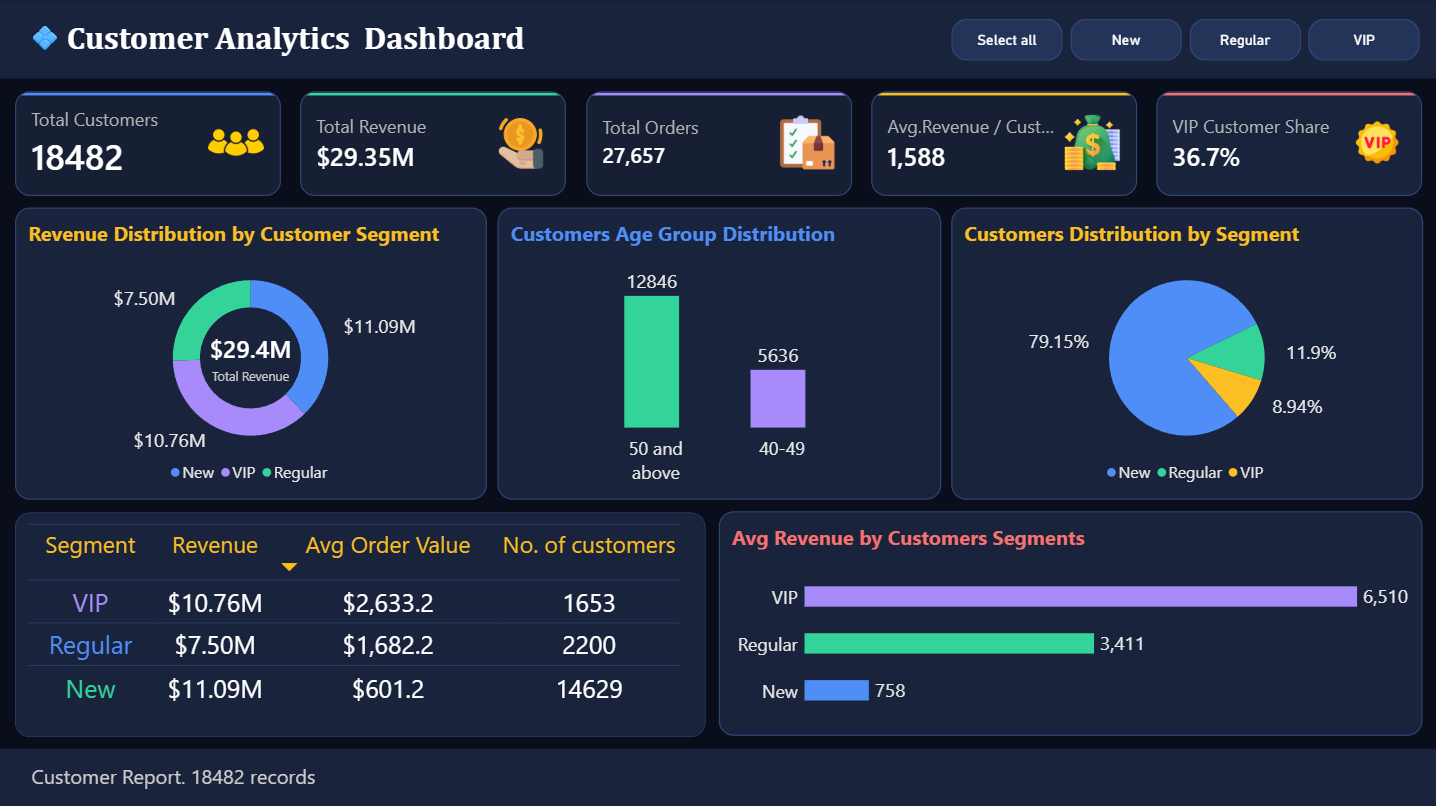

What the dashboard file says about the page in this screenshot:
{"tool":"powerbi","page":{"name":"Page 1","canvas":[1920,1080],"ordinal":0},"visuals":[{"type":"cardVisual","fields":{"Data":["Count(gold report_customers.customer_key)"]},"box":[20,121.5,355,140],"z":0},{"type":"cardVisual","fields":{"Data":["Sum(gold report_customers.total_sales)"]},"box":[401.2,121.5,355,140],"z":1000},{"type":"cardVisual","fields":{"Data":["Sum(gold report_customers.total_orders)"]},"box":[782.5,121.5,355,140],"z":2000},{"type":"cardVisual","fields":{"Data":["gold report_customers.Avg.Revenue_Customer"]},"box":[1163.8,121.5,355,140],"z":3000},{"type":"cardVisual","fields":{"Data":["gold report_customers.VIP Customer Share"]},"box":[1545,122.5,355,140],"z":4000},{"type":"donutChart","title":"Revenue  Distribution  by Customer Segment","fields":{"Category":["gold report_customers.customer_segment"],"Y":["Sum(gold report_customers.total_sales)"]},"box":[20,277.5,630,390],"z":5000},{"type":"columnChart","title":"Customers  Age Group Distribution","fields":{"Category":["gold report_customers.age_group"],"Y":["CountNonNull(gold report_customers.customer_key)"]},"box":[663.8,277.5,592.5,390],"z":6000},{"type":"tableEx","fields":{"Values":["gold report_customers.customer_segment","Sum(gold report_customers.total_sales)","Avg(gold report_customers.avg_order_value)","gold report_customers.customer_key"]},"box":[20,685,922.5,300],"z":7000},{"type":"barChart","title":"Avg Revenue  by Customers Segments ","fields":{"Category":["gold report_customers.customer_segment"],"Y":["gold report_customers.Avg.Revenue_Customer"]},"box":[960,683.8,940,300],"z":8000},{"type":"donutChart","title":"Customers Distribution  by Segment","fields":{"Category":["gold report_customers.customer_segment"],"Y":["CountNonNull(gold report_customers.customer_key)"]},"box":[1270,277.5,630,390],"z":9000},{"type":"textbox","box":[0,1000,1920,80],"z":10000},{"type":"textbox","box":[0,0,1920,105],"z":11000},{"type":"advancedSlicerVisual","fields":{"Values":["gold report_customers.customer_segment"]},"box":[1270,24.4,629.8,56.1],"z":12000}]}

Visuals, with their boxes in screenshot pixels (x1, y1, x2, y2), scaled from the page's 1920x1080 canvas onto the 1436x806 screenshot:
cardVisual - Count(gold report_customers.customer_key): box=[15, 91, 280, 195]
cardVisual - Sum(gold report_customers.total_sales): box=[300, 91, 566, 195]
cardVisual - Sum(gold report_customers.total_orders): box=[585, 91, 851, 195]
cardVisual - gold report_customers.Avg.Revenue_Customer: box=[870, 91, 1136, 195]
cardVisual - gold report_customers.VIP Customer Share: box=[1156, 91, 1421, 196]
"Revenue  Distribution  by Customer Segment" donutChart: box=[15, 207, 486, 498]
"Customers  Age Group Distribution" columnChart: box=[496, 207, 940, 498]
tableEx - gold report_customers.customer_segment x Sum(gold report_customers.total_sales): box=[15, 511, 705, 735]
"Avg Revenue  by Customers Segments " barChart: box=[718, 510, 1421, 734]
"Customers Distribution  by Segment" donutChart: box=[950, 207, 1421, 498]
textbox: box=[0, 746, 1435, 805]
textbox: box=[0, 0, 1435, 78]
advancedSlicerVisual - gold report_customers.customer_segment: box=[950, 18, 1421, 60]
